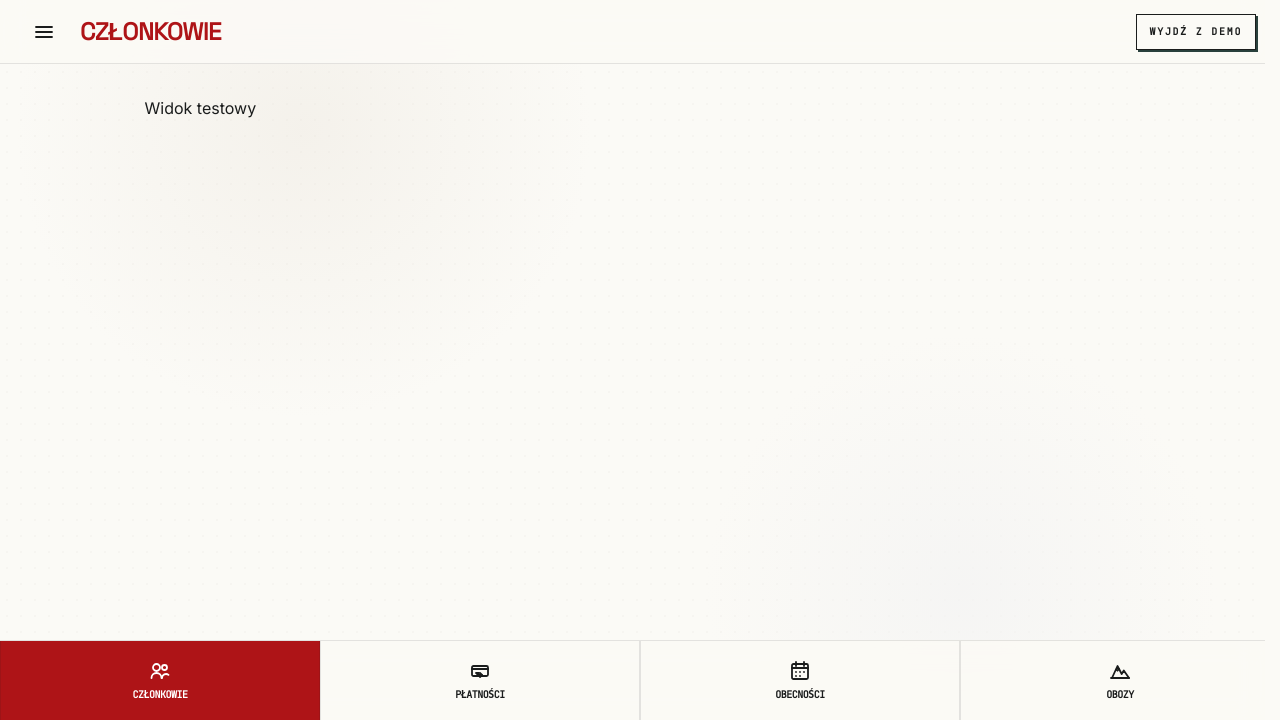
Test: AppShell › keeps the generic reset action visible while demo mode is active
Click the button with test id "shell-menu-button" at (44, 32), box [24,12,64,52]
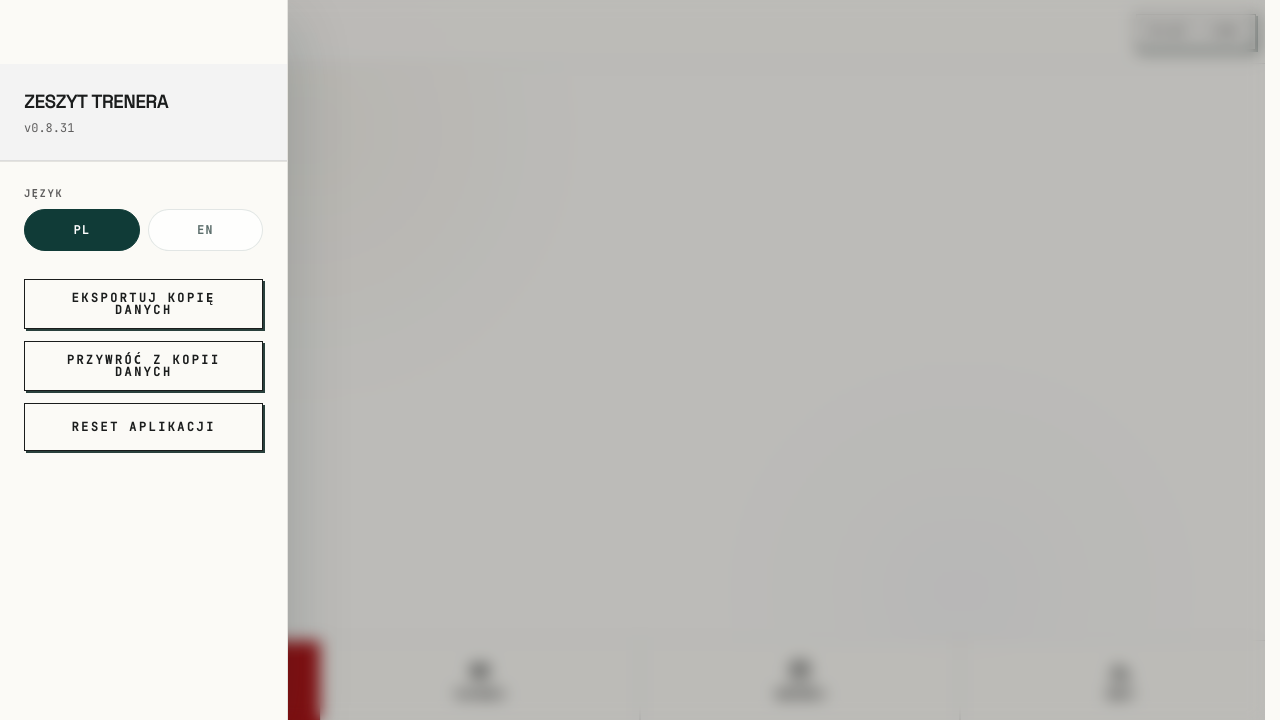
Check: the button with test id "open-reset-modal" is shown, box [24,403,263,451]
